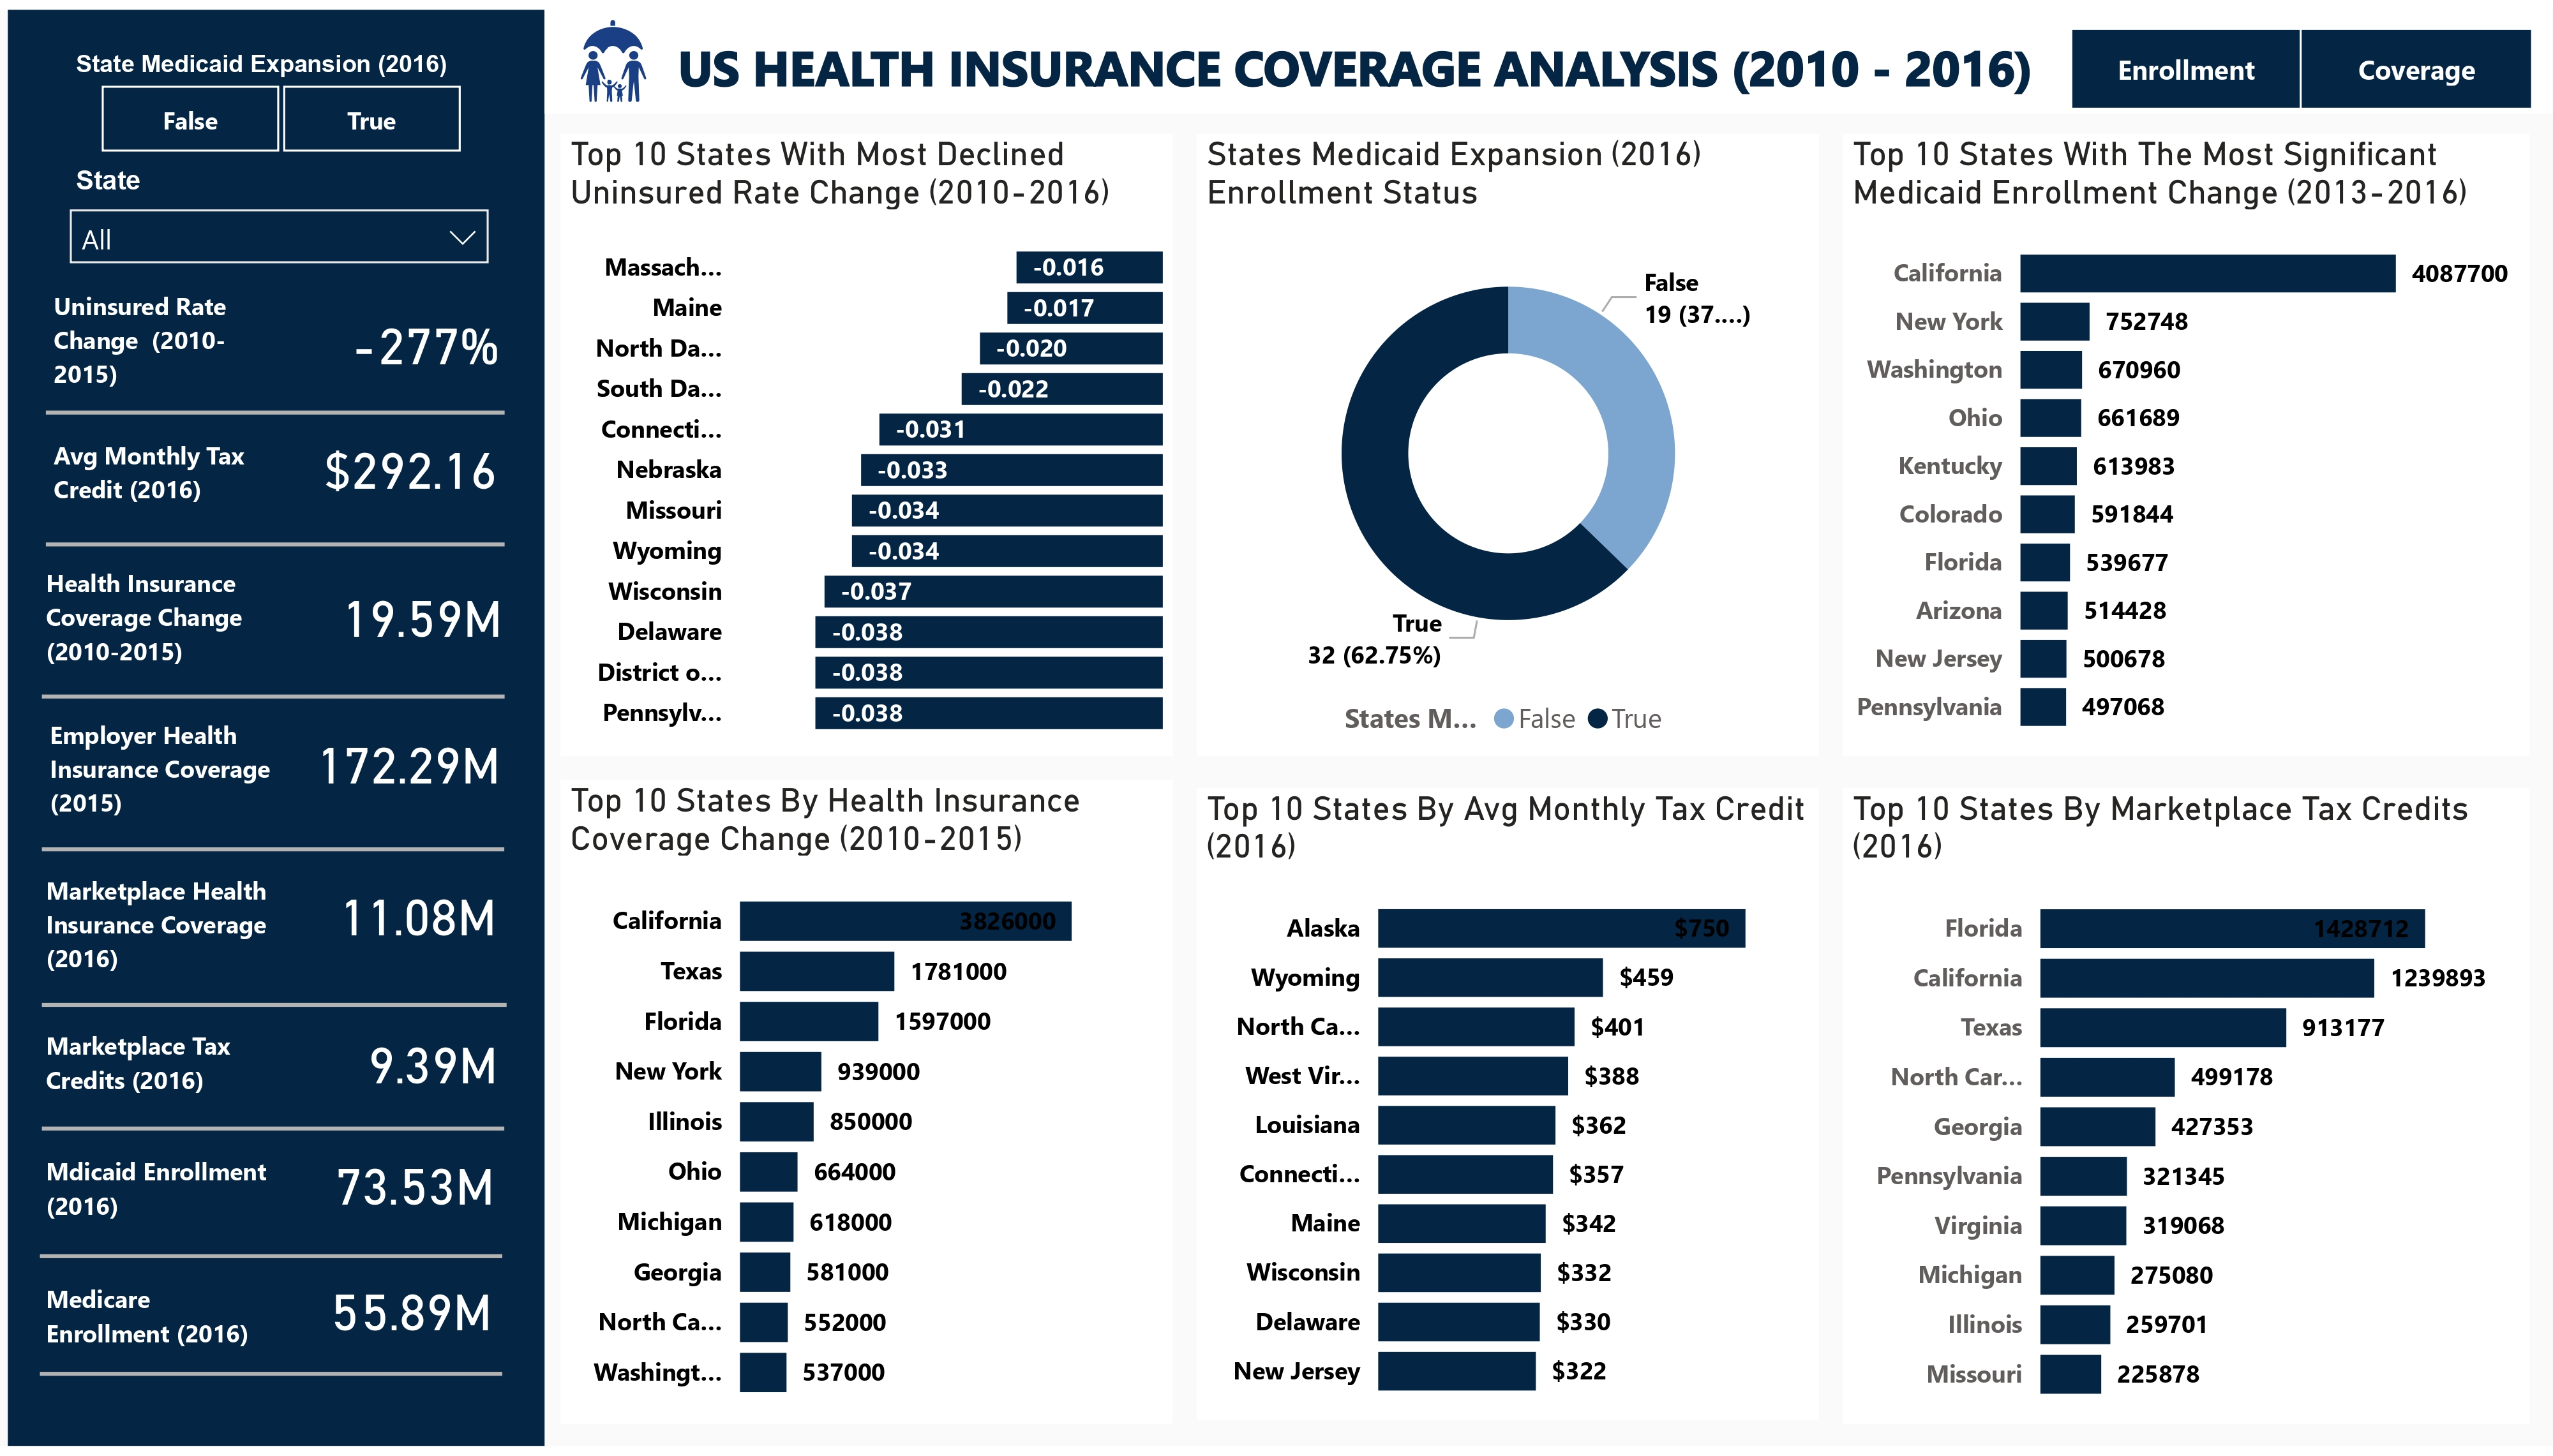

The dashboard page shown, as its layout file describes it:
{"tool":"powerbi","page":{"name":"REPORT 1","canvas":[1280,720],"ordinal":0},"visuals":[{"type":"shape","box":[5,0,268.4,719.7],"z":0},{"type":"card","fields":{"Values":["DAX.Avg Average Monthly Tax Credit (2016)"]},"box":[137.5,191.3,137.5,78],"z":1000},{"type":"card","fields":{"Values":["DAX.Formatted Health Insurance Coverage Change (2010-2015)"]},"box":[141.7,263.6,138.9,80.8],"z":2000},{"type":"card","fields":{"Values":["DAX.FORMATTED Employee Health Insurance Coverage (2015)"]},"box":[127.6,338.7,153.1,78],"z":3000},{"type":"card","fields":{"Values":["DAX.Formatted Marketplace Health Insurance Coverage (2016)"]},"box":[140.3,415.3,138.9,78],"z":4000},{"type":"shape","box":[23.3,249.6,230.4,36],"z":5000},{"type":"card","fields":{"Values":["DAX.Formatted Marketplace Tax Credit (2016)"]},"box":[146,487.6,141.7,80.8],"z":6000},{"type":"shape","box":[21.3,323.1,232.4,42.5],"z":7000},{"type":"shape","box":[21.3,399.9,231.8,41.8],"z":8000},{"type":"shape","box":[23.3,181.5,230.4,41.8],"z":9000},{"type":"shape","box":[21.3,477.6,233.3,41.8],"z":10000},{"type":"card","fields":{"Values":["DAX.Formatted Uninsured Rate Change (2010-2016)"]},"box":[144.6,127.6,136.1,79.4],"z":11000},{"type":"card","fields":{"Values":["DAX.Medicaid Enrollment (2016)"]},"box":[137.5,549.9,141.6,78.4],"z":12000},{"type":"textbox","box":[21.8,209.3,109.4,66.2],"z":13000},{"type":"textbox","box":[18.4,273.1,125.3,79.2],"z":14000},{"type":"textbox","box":[19.8,349.5,125.3,79.2],"z":15000},{"type":"textbox","box":[18.4,426.6,124.7,79.4],"z":16000},{"type":"textbox","box":[21.8,134,109.4,63.4],"z":17000},{"type":"textbox","box":[18.4,504.6,124.7,73.7],"z":18000},{"type":"shape","box":[21.3,540.3,231.8,41.8],"z":19000},{"type":"textbox","box":[18.4,568.4,125.3,60.5],"z":20000},{"type":"shape","box":[19.9,604.4,231.8,41.8],"z":21000},{"type":"card","fields":{"Values":["DAX.Medicare Enrollment (2016)"]},"box":[134.7,613.2,141.6,78.4],"z":22000},{"type":"textbox","box":[18.4,632.1,124.7,59.5],"z":23000},{"type":"shape","box":[19.9,663.3,231.8,41.8],"z":24000},{"type":"barChart","title":"Top 10 States With Most Declined Uninsured Rate Change (2010-2016)","fields":{"Category":["states.State"],"Y":["Sum(states.Uninsured Rate Change (2010-2015))"]},"box":[280.5,62.2,307,312],"z":25000},{"type":"donutChart","title":"States Medicaid Expansion (2016) Enrollment Status","fields":{"Series":["states.State Medicaid Expansion (2016)"],"Y":["CountNonNull(states.State Medicaid Expansion (2016))"]},"box":[599.7,62.2,312.4,312],"z":26000},{"type":"barChart","title":"Top 10 States With The Most Significant Medicaid Enrollment Change (2013-2016)","fields":{"Category":["states.State"],"Y":["Sum(states.Medicaid Enrollment Change (2013-2016))"]},"box":[923.9,62.2,344.4,312],"z":27000},{"type":"barChart","title":"Top 10 States By Health Insurance Coverage Change (2010-2015)","fields":{"Category":["states.State"],"Y":["Sum(states.Health Insurance Coverage Change (2010-2015))"]},"box":[280.5,386.4,307.4,322.5],"z":28000},{"type":"slicer","fields":{"Values":["states.State"]},"box":[24.7,72.9,229.6,64.6],"z":29000},{"type":"slicer","fields":{"Values":["states.State Medicaid Expansion (2016)"]},"box":[24.7,15.1,229.6,63.2],"z":30000},{"type":"shape","box":[273.4,0,1006.6,52],"z":31000},{"type":"textbox","box":[334.5,7.3,837.8,50.9],"z":32000},{"type":"image","box":[273.5,0,69.8,50.9],"z":33000},{"type":"barChart","title":"Top 10 States By Avg Monthly Tax Credit (2016)","fields":{"Category":["states.State"],"Y":["Sum(states.Average Monthly Tax Credit (2016))"]},"box":[599.7,389.7,312.4,317.5],"z":34000},{"type":"actionButton","box":[1153.7,7.1,114.8,39.7],"z":35000},{"type":"barChart","title":"Top 10 States By Marketplace Tax Credits (2016)","fields":{"Category":["states.State"],"Y":["Sum(states.Marketplace Tax Credits (2016))"]},"box":[923.9,389.7,344.4,319.2],"z":36000}]}

Visuals, with their boxes in screenshot pixels (x1, y1, x2, y2), scaled from the page's 1280x720 canvas onto the 2553x1456 screenshot:
shape: 10:0:545:1455
card - DAX.Avg Average Monthly Tax Credit (2016): 274:387:548:545
card - DAX.Formatted Health Insurance Coverage Change (2010-2015): 283:533:560:697
card - DAX.FORMATTED Employee Health Insurance Coverage (2015): 255:685:560:843
card - DAX.Formatted Marketplace Health Insurance Coverage (2016): 280:840:557:997
shape: 47:505:506:577
card - DAX.Formatted Marketplace Tax Credit (2016): 291:986:574:1150
shape: 43:653:506:739
shape: 43:808:505:893
shape: 47:367:506:452
shape: 43:966:508:1050
card - DAX.Formatted Uninsured Rate Change (2010-2016): 288:258:560:419
card - DAX.Medicaid Enrollment (2016): 274:1112:557:1270
textbox: 43:423:262:557
textbox: 36:553:287:713
textbox: 40:707:289:867
textbox: 36:863:285:1023
textbox: 43:271:262:399
textbox: 36:1020:285:1170
shape: 43:1092:505:1177
textbox: 36:1150:287:1272
shape: 40:1222:502:1307
card - DAX.Medicare Enrollment (2016): 269:1240:551:1399
textbox: 36:1278:285:1399
shape: 40:1341:502:1426
"Top 10 States With Most Declined Uninsured Rate Change (2010-2016)" barChart: 560:126:1172:757
"States Medicaid Expansion (2016) Enrollment Status" donutChart: 1196:126:1819:757
"Top 10 States With The Most Significant Medicaid Enrollment Change (2013-2016)" barChart: 1843:126:2529:757
"Top 10 States By Health Insurance Coverage Change (2010-2015)" barChart: 560:782:1172:1434
slicer - states.State: 49:147:507:278
slicer - states.State Medicaid Expansion (2016): 49:31:507:158
shape: 545:0:2552:105
textbox: 667:15:2338:117
image: 546:0:685:103
"Top 10 States By Avg Monthly Tax Credit (2016)" barChart: 1196:788:1819:1430
actionButton: 2301:15:2530:94
"Top 10 States By Marketplace Tax Credits (2016)" barChart: 1843:788:2529:1434
